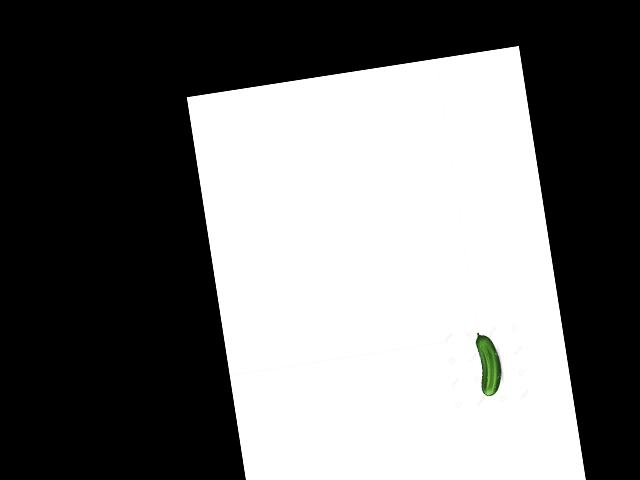cucumber: (473, 330, 505, 397)
